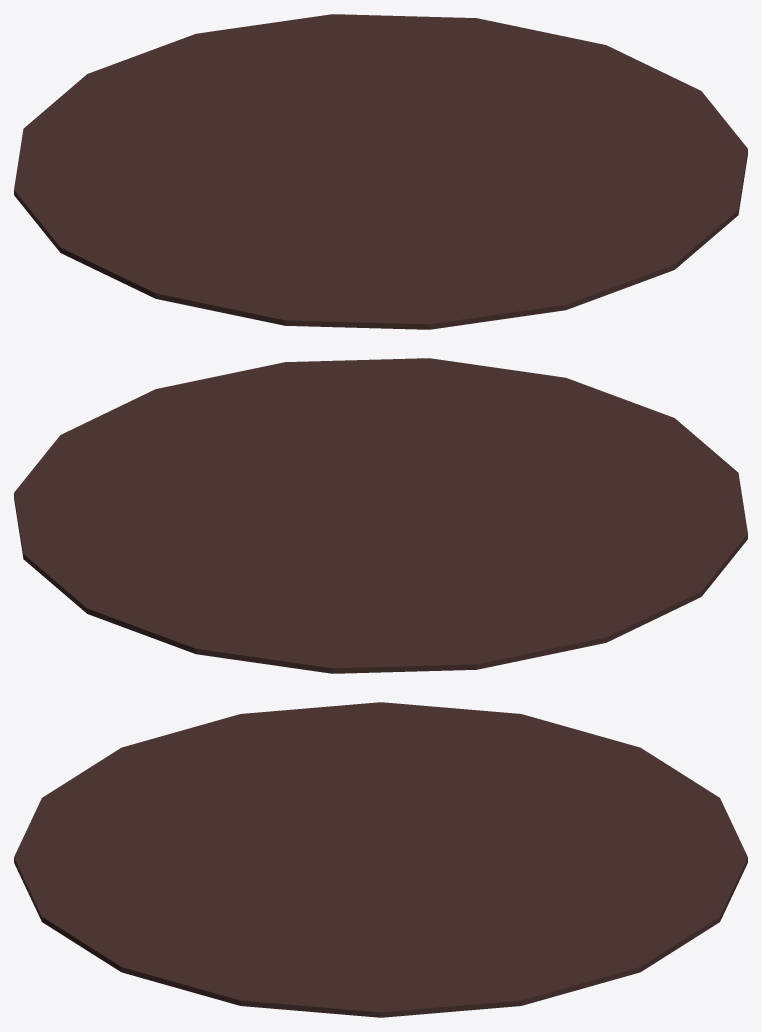
Rendered from fbx_carpet_02.fbx.
3 renders of one model, top to bottom at view 1: azimuth 30°, elevation 25°; view 2: azimuth 150°, elevation 25°; view 3: azimuth 270°, elevation 25°, orthographic.
Parts seen in each view (by area): view 1: Cylinder.006; view 2: Cylinder.006; view 3: Cylinder.006.
Boxes of the visible parts, box(x1,y1,x2,y2) form: Cylinder.006: box(14, 14, 747, 329); Cylinder.006: box(14, 358, 747, 673); Cylinder.006: box(14, 702, 747, 1017).
Bounding box in the file's own units: 4.52 × 0.0369 × 4.52.
